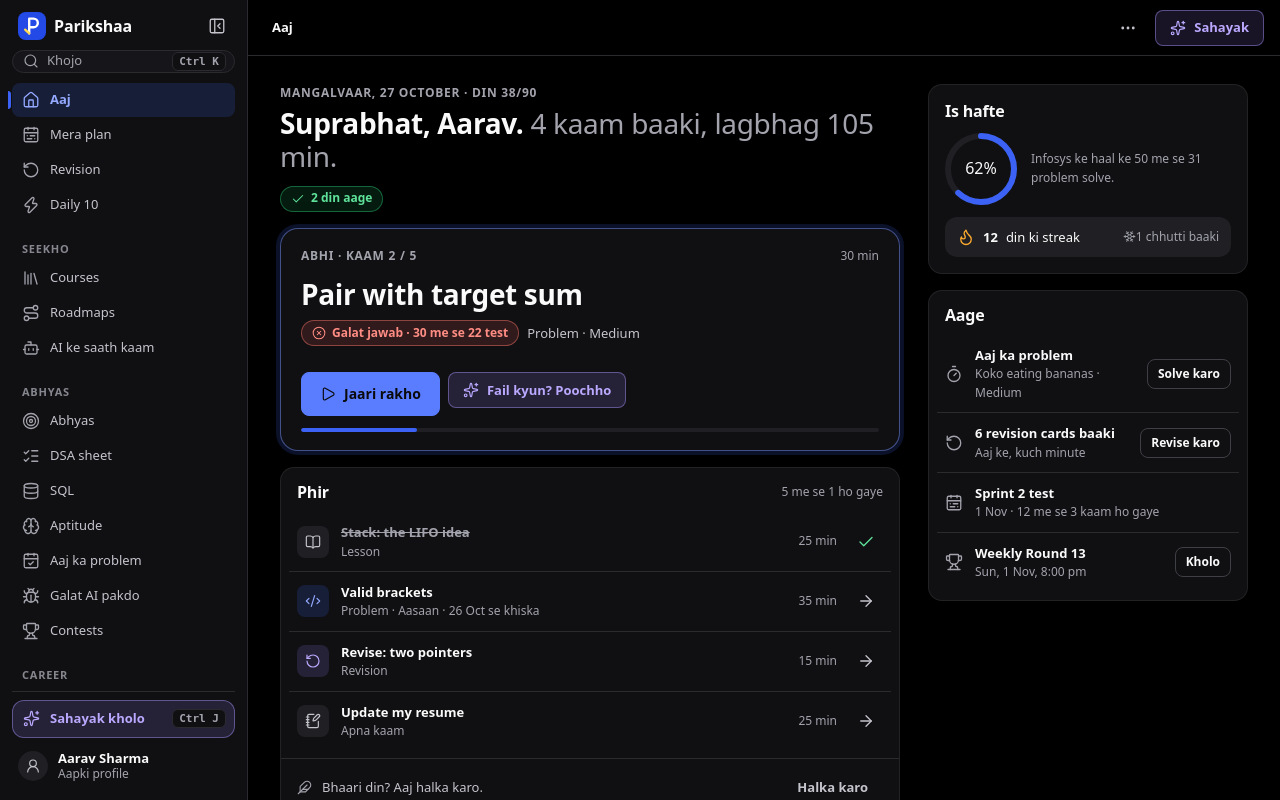
revision › is where Aaj's revision card leads
Click the link "Revise karo" at (1186, 443), box [1140, 428, 1231, 458]
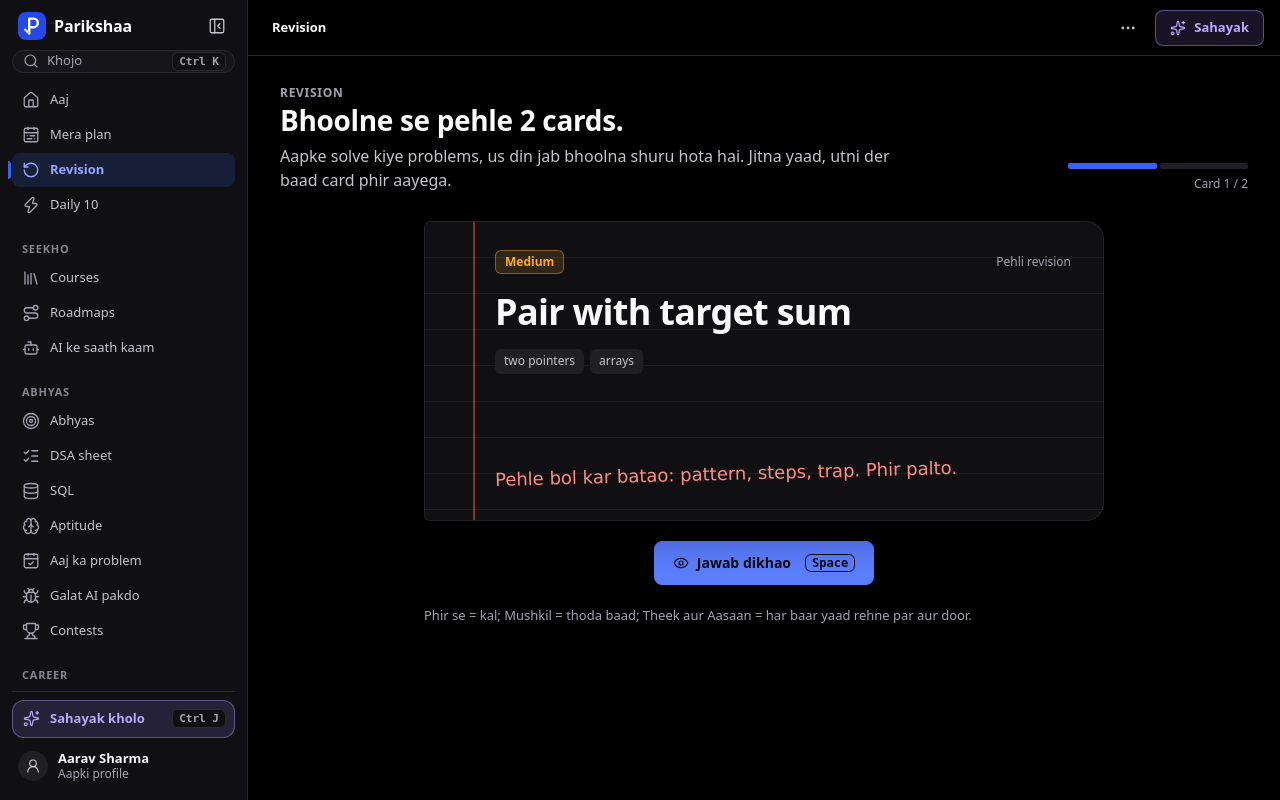
Now the element named "Card 1 / 2" is shown, box [424, 221, 1104, 521]
